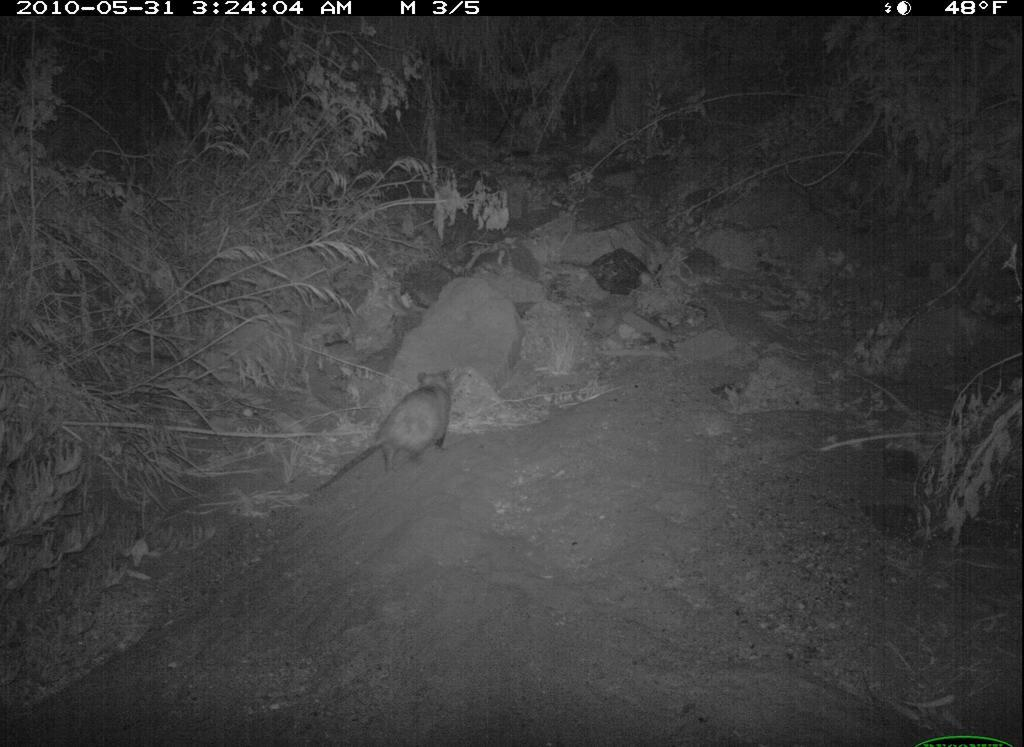opossum: (322, 361, 464, 492)
